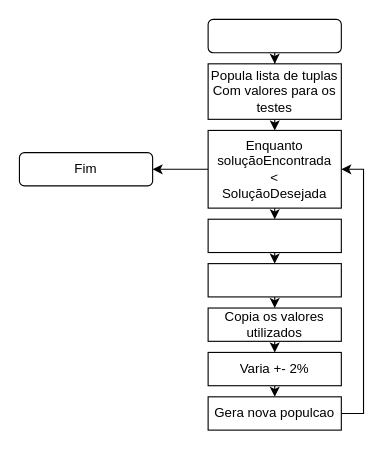
This 392x450 diagram has some shape labels left out. The shapes that lost their labels are listed below. From the top down, each one's centre as x and y in pixels, then its label:
(x=274, y=35): Inicio
(x=274, y=235): Realiza os testes
(x=274, y=280): Seleciona Top 100
